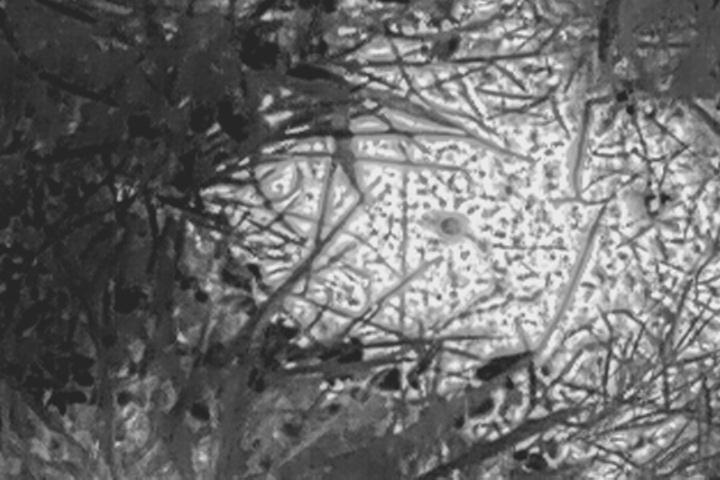landmine: (225, 98, 612, 357)
